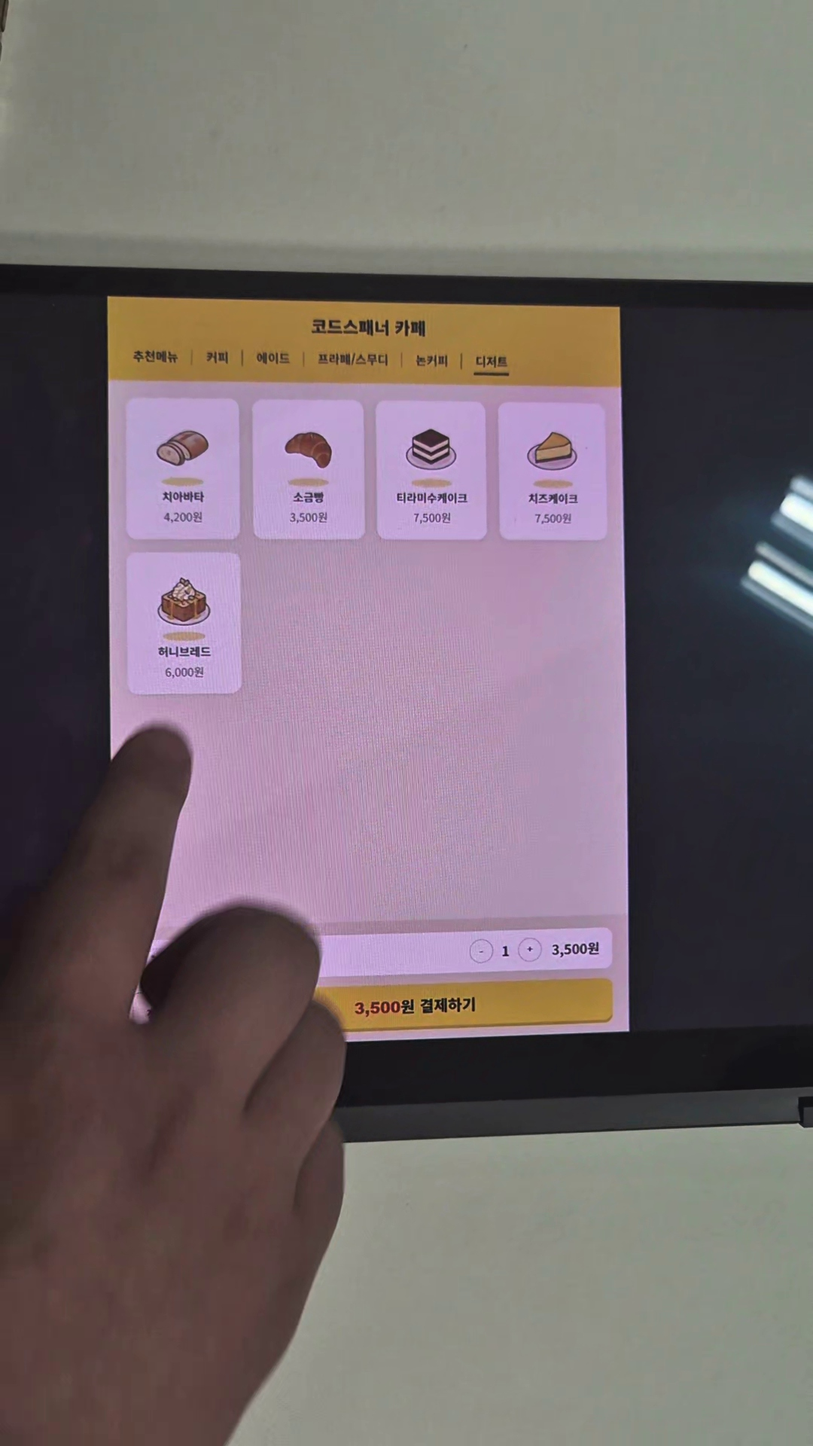action_button: (266, 975, 607, 1035)
cart_item: (131, 927, 611, 988)
category_tab: (318, 353, 388, 366), (133, 350, 179, 364), (256, 352, 290, 364), (416, 355, 448, 367), (476, 355, 508, 367), (206, 351, 228, 364)
menu_back: (128, 396, 241, 540), (127, 553, 243, 693), (251, 399, 365, 537), (378, 402, 487, 538), (499, 403, 608, 538)
menu_name: (397, 493, 467, 503), (157, 647, 211, 657), (528, 493, 578, 503), (162, 491, 204, 502), (293, 492, 324, 504)
menu_price: (289, 512, 328, 523), (165, 667, 204, 678), (413, 513, 451, 524), (163, 512, 203, 522), (535, 514, 572, 524)
